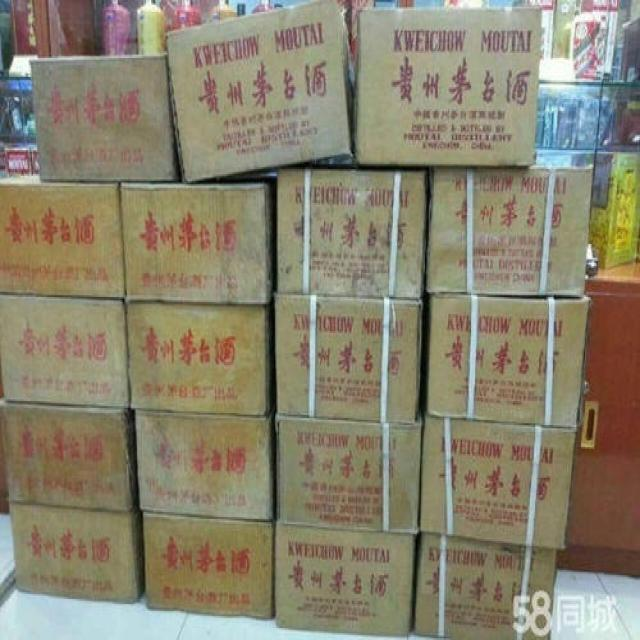box: (165, 0, 356, 183), (355, 5, 543, 164), (425, 292, 591, 425), (426, 166, 591, 299), (420, 418, 577, 550), (120, 176, 276, 307), (278, 169, 428, 300), (29, 51, 180, 181), (274, 292, 424, 422), (125, 299, 274, 416), (276, 415, 425, 531), (134, 410, 278, 521), (274, 522, 415, 635), (0, 172, 125, 299), (1, 396, 138, 510), (415, 532, 557, 640), (141, 509, 276, 621), (0, 292, 129, 408), (8, 503, 146, 601)
